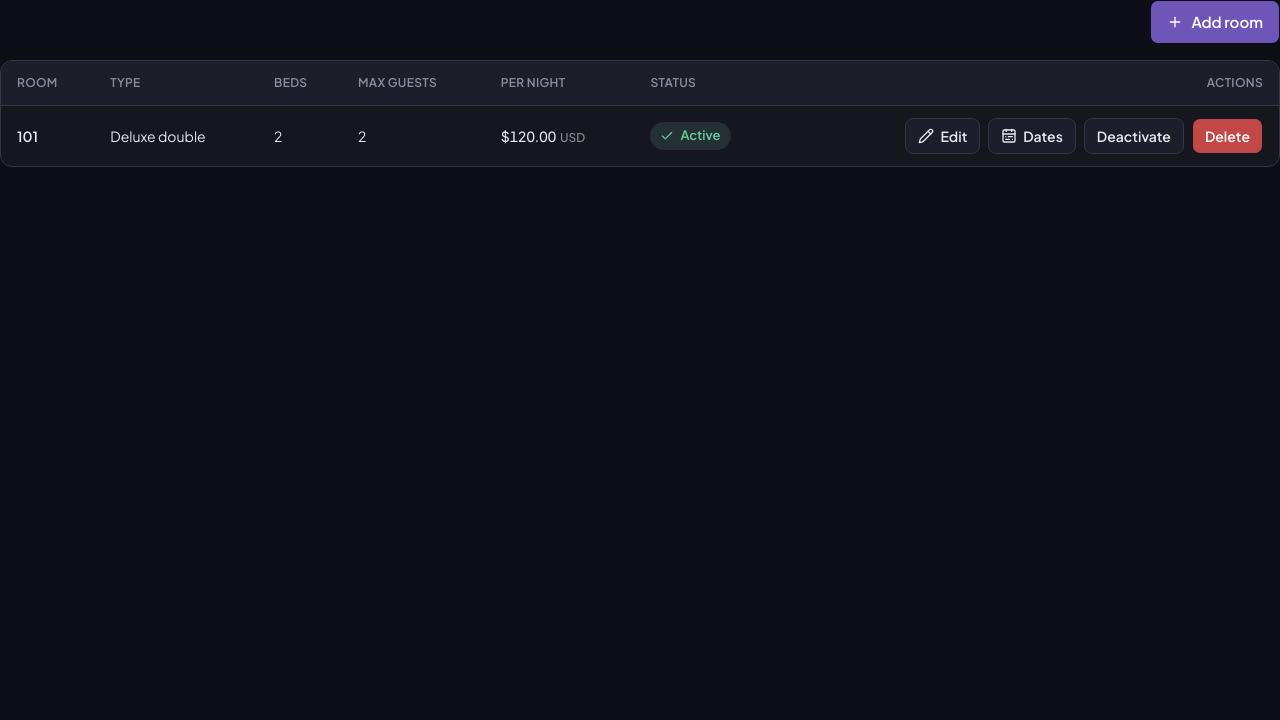
clicking Delete on a room sends nothing until the deletion is confirmed
Click the button "Delete" at (1227, 136), box [1192,118,1263,154]
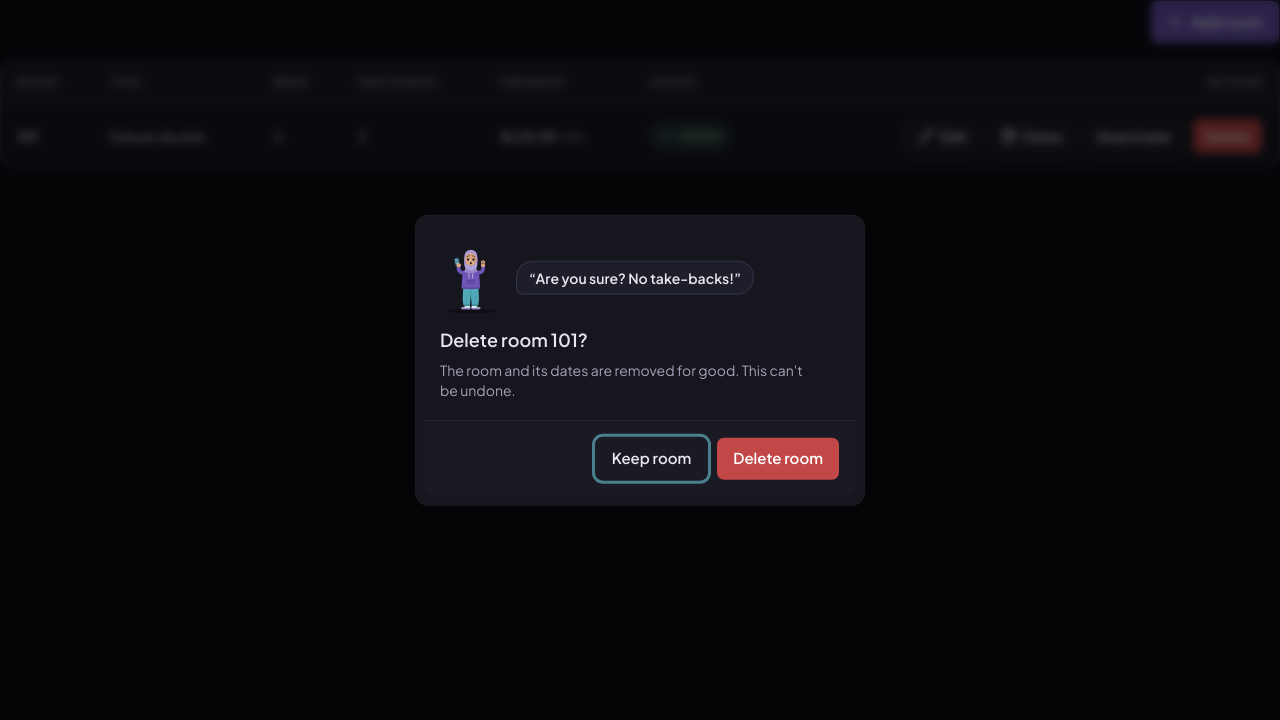
Check: the dialog is shown, box [416,216,864,504]
